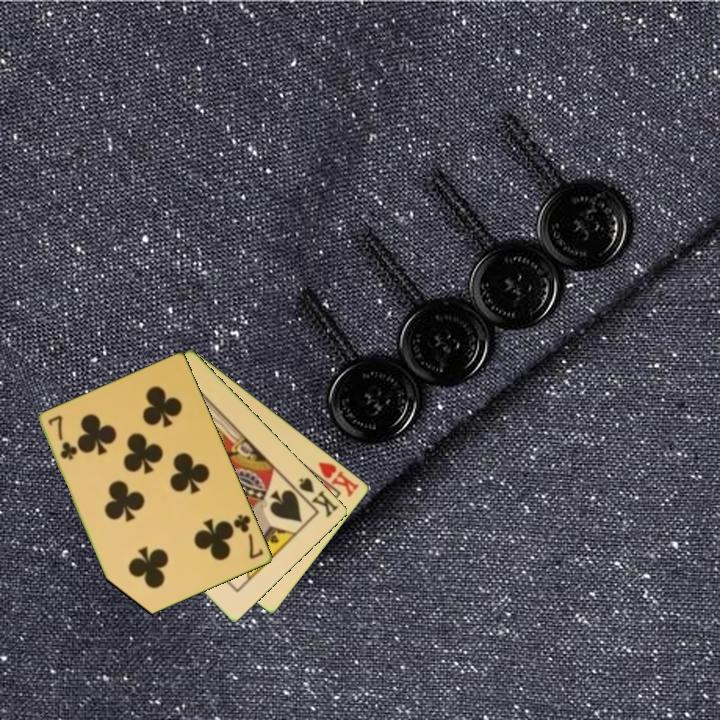7c: (230, 511, 267, 562), (45, 412, 80, 463)
Kh: (307, 458, 362, 500)
Ks: (289, 474, 341, 520)
